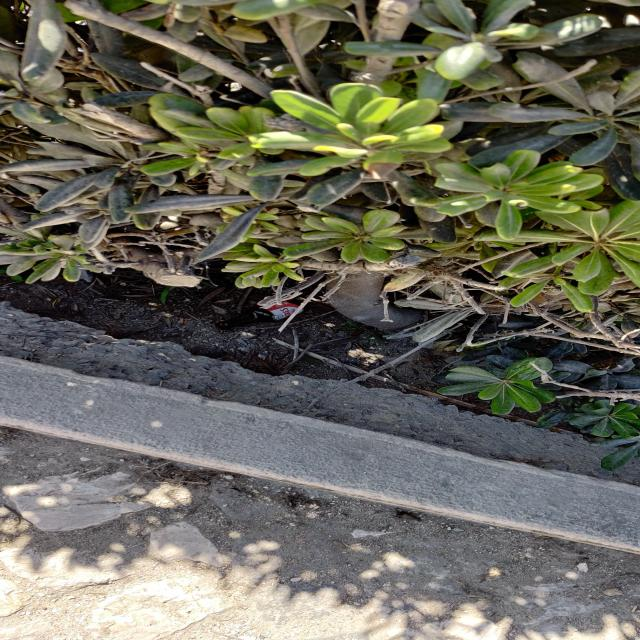litter: (201, 291, 332, 333)
